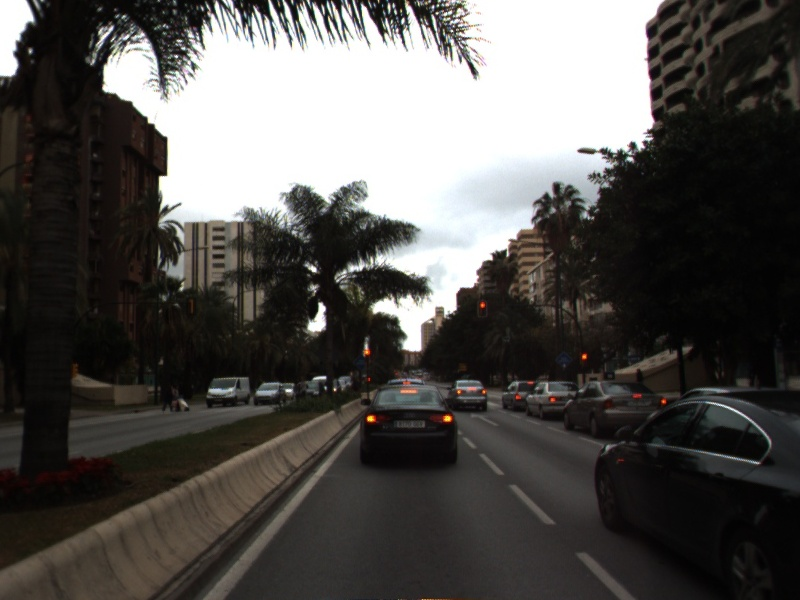STRAIGHT: (468, 410, 502, 428)
